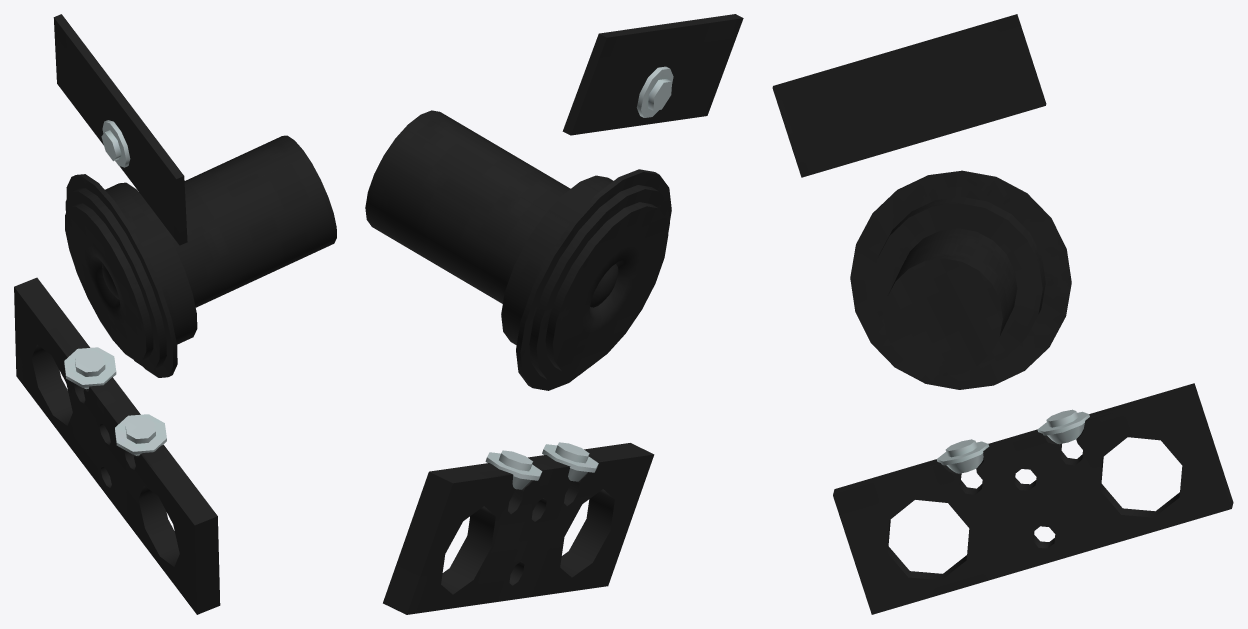
The model's file is targa.glb.
3 views of the same model, side by side, from view 1: azimuth 30°, elevation 25°; view 2: azimuth 150°, elevation 25°; view 3: azimuth 270°, elevation 25° (orthographic). The views are drawn at different scales.
Visible parts, largest first — view 1: ricambio; view 2: ricambio; view 3: ricambio.
Part boxes in pixels (left/top/right/bottom): ricambio: left=14, top=14, right=336, bottom=614; ricambio: left=365, top=14, right=743, bottom=614; ricambio: left=772, top=14, right=1233, bottom=614.
Bounding box in the file's own units: 0.0923 × 0.2149 × 0.1599.
Materials: 3 (3 with a texture image).
